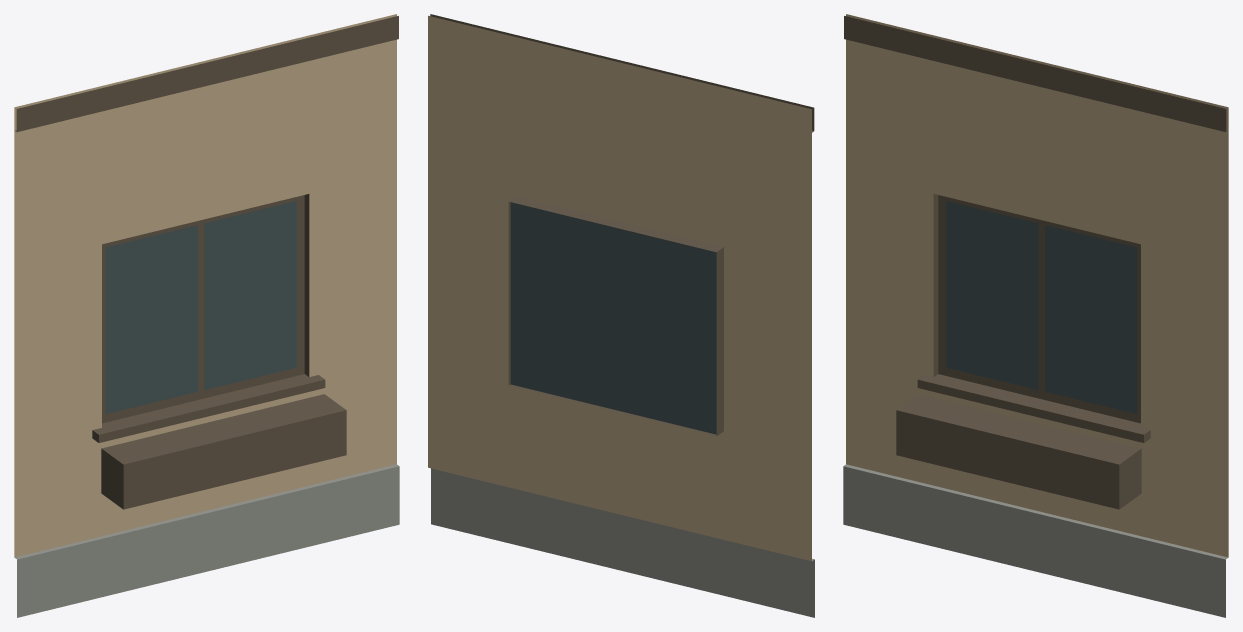
The picture shows the model from 3 angles, left to right: view 1: azimuth 30°, elevation 25°; view 2: azimuth 150°, elevation 25°; view 3: azimuth 330°, elevation 25°; orthographic projection.
Visible parts, largest first — view 1: a2015/0/base-w3; view 2: a2015/0/base-w3; view 3: a2015/0/base-w3.
Part boxes in pixels (bbox=[...]): a2015/0/base-w3: bbox=[14, 14, 399, 617]; a2015/0/base-w3: bbox=[428, 14, 814, 617]; a2015/0/base-w3: bbox=[843, 14, 1228, 617].
Bounding box in the file's own units: 2.4 × 3.05 × 0.4.
